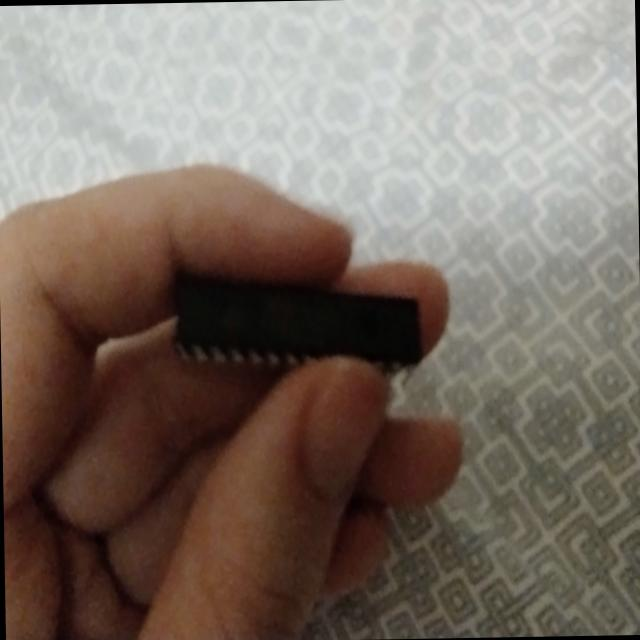atmega: (169, 262, 428, 398)
